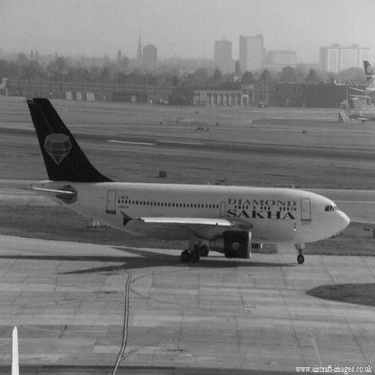airplane: (12, 90, 357, 272)
